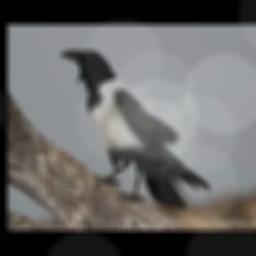Crow: (59, 48, 210, 210)
